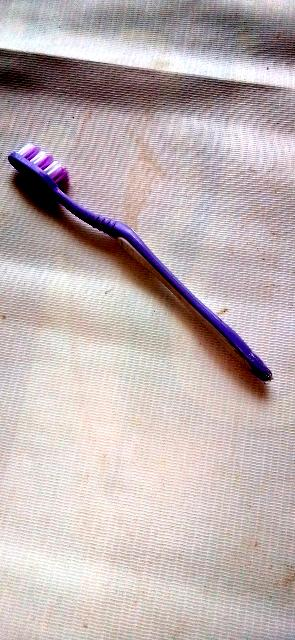hardplastic: (0, 140, 286, 397)
